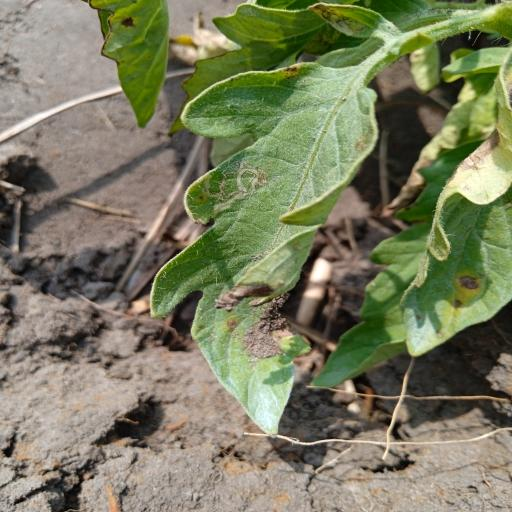Tomato_Brown_Spots: (147, 54, 380, 436)
